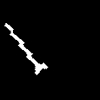half_double_crochet: (5, 23, 47, 73)
